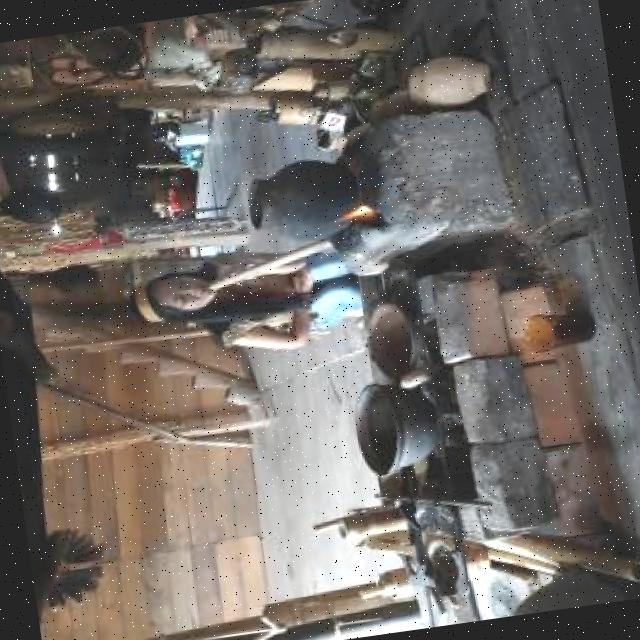fire: (327, 198, 378, 229)
